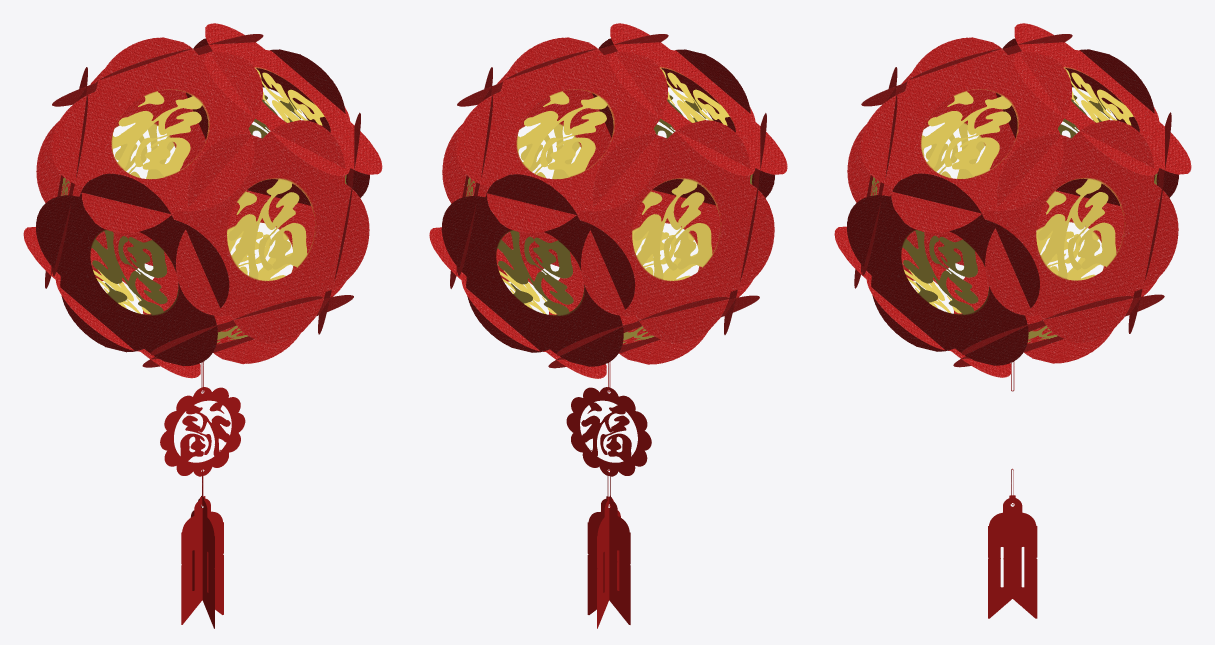
The model's file is uploads_files_2873722_LanternA.fbx.
3 renders of one model, left to right at view 1: azimuth 30°, elevation 25°; view 2: azimuth 150°, elevation 25°; view 3: azimuth 270°, elevation 25°, orthographic.
Parts seen in each view (by area): view 1: body, bottom, fu; view 2: body, bottom, fu; view 3: body, bottom.
Boxes of the visible parts, bbox=[...] form: body: bbox=[23, 23, 382, 378]; bottom: bbox=[181, 496, 223, 628]; fu: bbox=[160, 387, 245, 476]; body: bbox=[429, 23, 787, 378]; bottom: bbox=[587, 496, 630, 628]; fu: bbox=[566, 387, 651, 476]; body: bbox=[834, 23, 1191, 377]; bottom: bbox=[988, 495, 1037, 618].
Bounding box in the file's own units: 5.99 × 10.13 × 6.
